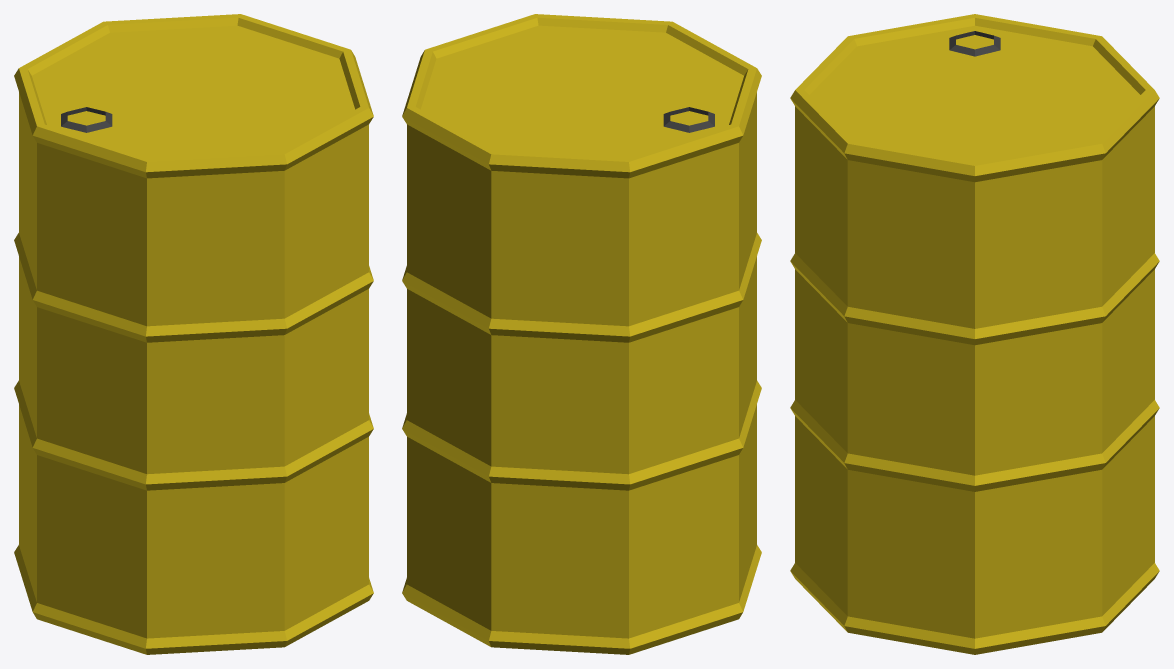
The model's file is DrumYellow.fbx.
3 views of the same model, side by side, from view 1: azimuth 30°, elevation 25°; view 2: azimuth 150°, elevation 25°; view 3: azimuth 270°, elevation 25° (orthographic).
Visible parts, largest first — view 1: Cylinder; view 2: Cylinder; view 3: Cylinder.
Part boxes in pixels (x1,y1,x2,y2): Cylinder: (14, 14, 373, 654); Cylinder: (402, 14, 761, 654); Cylinder: (790, 14, 1159, 654).
Size of the model in its own units: 0.822 by 1.2 by 0.822.
